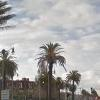Palm tree: (33, 37, 72, 100)
